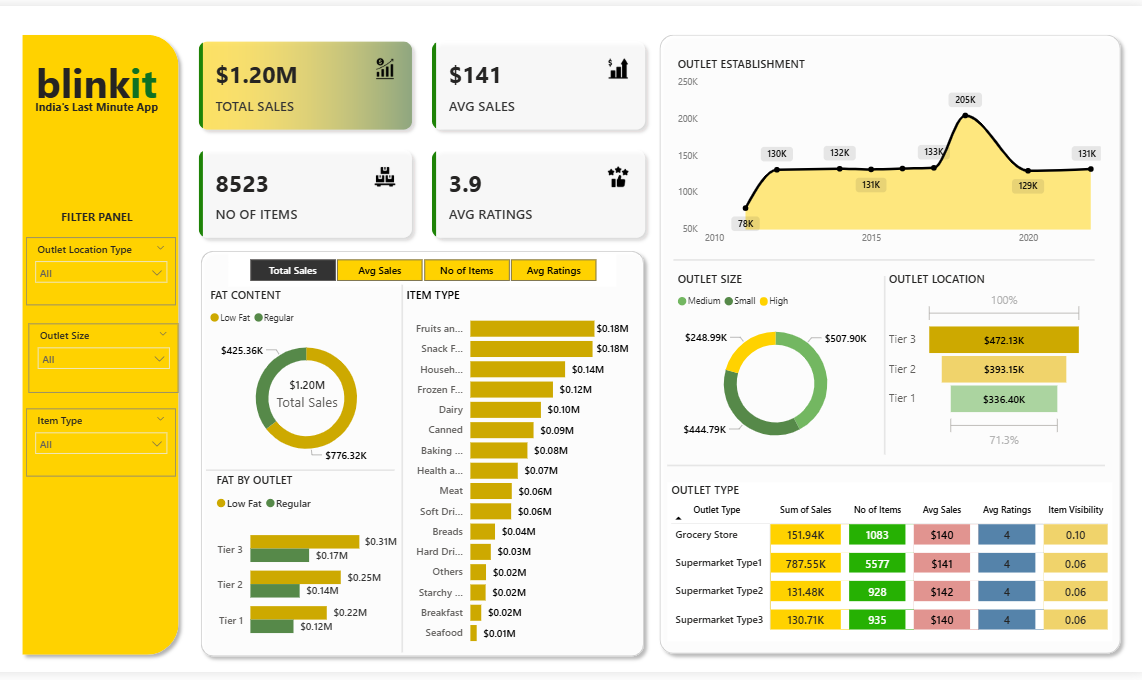

The dashboard page shown, as its layout file describes it:
{"tool":"powerbi","page":{"name":"Page 1","canvas":[1400,800],"ordinal":0},"visuals":[{"type":"shape","box":[40,25.7,205.7,762.9],"z":0},{"type":"textbox","box":[60,54.3,157.1,105.7],"z":1000},{"type":"textbox","box":[60,106.7,220,28.3],"z":2000},{"type":"cardVisual","fields":{"Data":["BlinkIT Grocery Data.Total Sales","BlinkIT Grocery Data.Average Sales","BlinkIT Grocery Data.No of Items","BlinkIT Grocery Data.Avg Ratings"]},"box":[245,25,570,270],"z":3000},{"type":"shape","box":[255,285,550,505],"z":4000},{"type":"donutChart","title":"FAT CONTENT","fields":{"Y":["BlinkIT Grocery Data.Total Sales"],"Category":["BlinkIT Grocery Data.Item Fat Content"]},"box":[270,337.1,241.4,221.4],"z":5000},{"type":"cardVisual","fields":{"Data":["BlinkIT Grocery Data.Total Sales"]},"box":[324.3,428.6,135.7,71.4],"z":6000},{"type":"slicer","fields":{"Values":["Metrics.Metrics"]},"box":[297.1,297.1,465.7,40],"z":7000},{"type":"clusteredBarChart","title":"FAT BY OUTLET","fields":{"Y":["BlinkIT Grocery Data.Total Sales"],"Category":["BlinkIT Grocery Data.Outlet Location Type"],"Series":["BlinkIT Grocery Data.Item Fat Content"]},"box":[277.1,560,227.1,217.1],"z":8000},{"type":"shape","box":[270,543.3,226.7,28.3],"z":9000},{"type":"shape","box":[475.7,334.3,60,441.4],"z":10000},{"type":"clusteredBarChart","title":"ITEM TYPE","fields":{"Y":["BlinkIT Grocery Data.Total Sales"],"Category":["BlinkIT Grocery Data.Item Type"]},"box":[505.7,337.1,277.1,440],"z":11000},{"type":"shape","box":[805.7,25.7,571.4,761.4],"z":12000},{"type":"lineChart","title":"OUTLET ESTABLISHMENT","fields":{"Y":["Sum(BlinkIT Grocery Data.Sales)"],"Category":["BlinkIT Grocery Data.Outlet Establishment Year"]},"box":[831.4,60,518.6,235.7],"z":13000},{"type":"shape","box":[831.4,294.3,505.7,21.4],"z":14000},{"type":"donutChart","title":"OUTLET SIZE","fields":{"Y":["BlinkIT Grocery Data.Total Sales"],"Category":["BlinkIT Grocery Data.Outlet Size"]},"box":[831.1,317.8,245.6,225.6],"z":15000},{"type":"shape","box":[1054.4,324.4,60,214.4],"z":16000},{"type":"funnel","title":"OUTLET LOCATION","fields":{"Y":["BlinkIT Grocery Data.Total Sales"],"Category":["BlinkIT Grocery Data.Outlet Location Type"]},"box":[1084.4,317.8,243.3,218.9],"z":17000},{"type":"pivotTable","title":"OUTLET TYPE","fields":{"Values":["Sum(BlinkIT Grocery Data.Sales)","BlinkIT Grocery Data.No of Items","BlinkIT Grocery Data.Avg Sales","BlinkIT Grocery Data.Avg Ratings","Avg(BlinkIT Grocery Data.Item Visibility)"],"Rows":["BlinkIT Grocery Data.Outlet Type"]},"box":[824.4,571.1,534.4,191.1],"z":18000},{"type":"shape","box":[824.4,536.7,525.6,28.9],"z":19000},{"type":"slicer","fields":{"Values":["BlinkIT Grocery Data.Outlet Location Type"]},"box":[53.3,278.3,180,81.7],"z":20000},{"type":"slicer","fields":{"Values":["BlinkIT Grocery Data.Outlet Size"]},"box":[56.7,381.7,180,83.3],"z":21000},{"type":"slicer","fields":{"Values":["BlinkIT Grocery Data.Item Type"]},"box":[53.3,483.3,180,81.7],"z":22000},{"type":"textbox","box":[72.2,238.9,134.4,30],"z":23000}]}

Visuals, with their boxes on the page's 1400x800 design canvas (x1, y1, x2, y2). These are canvas units, not pixel positions in the 1142x680 screenshot, which may show the page scaled, cropped or inside an application window:
shape: {"left": 40, "top": 26, "right": 246, "bottom": 789}
textbox: {"left": 60, "top": 54, "right": 217, "bottom": 160}
textbox: {"left": 60, "top": 107, "right": 280, "bottom": 135}
cardVisual - BlinkIT Grocery Data.Total Sales x BlinkIT Grocery Data.Average Sales: {"left": 245, "top": 25, "right": 815, "bottom": 295}
shape: {"left": 255, "top": 285, "right": 805, "bottom": 790}
"FAT CONTENT" donutChart: {"left": 270, "top": 337, "right": 511, "bottom": 558}
cardVisual - BlinkIT Grocery Data.Total Sales: {"left": 324, "top": 429, "right": 460, "bottom": 500}
slicer - Metrics.Metrics: {"left": 297, "top": 297, "right": 763, "bottom": 337}
"FAT BY OUTLET" clusteredBarChart: {"left": 277, "top": 560, "right": 504, "bottom": 777}
shape: {"left": 270, "top": 543, "right": 497, "bottom": 572}
shape: {"left": 476, "top": 334, "right": 536, "bottom": 776}
"ITEM TYPE" clusteredBarChart: {"left": 506, "top": 337, "right": 783, "bottom": 777}
shape: {"left": 806, "top": 26, "right": 1377, "bottom": 787}
"OUTLET ESTABLISHMENT" lineChart: {"left": 831, "top": 60, "right": 1350, "bottom": 296}
shape: {"left": 831, "top": 294, "right": 1337, "bottom": 316}
"OUTLET SIZE" donutChart: {"left": 831, "top": 318, "right": 1077, "bottom": 543}
shape: {"left": 1054, "top": 324, "right": 1114, "bottom": 539}
"OUTLET LOCATION" funnel: {"left": 1084, "top": 318, "right": 1328, "bottom": 537}
"OUTLET TYPE" pivotTable: {"left": 824, "top": 571, "right": 1359, "bottom": 762}
shape: {"left": 824, "top": 537, "right": 1350, "bottom": 566}
slicer - BlinkIT Grocery Data.Outlet Location Type: {"left": 53, "top": 278, "right": 233, "bottom": 360}
slicer - BlinkIT Grocery Data.Outlet Size: {"left": 57, "top": 382, "right": 237, "bottom": 465}
slicer - BlinkIT Grocery Data.Item Type: {"left": 53, "top": 483, "right": 233, "bottom": 565}
textbox: {"left": 72, "top": 239, "right": 207, "bottom": 269}
